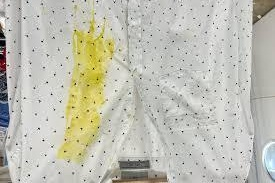mustard: (62, 8, 114, 161)
